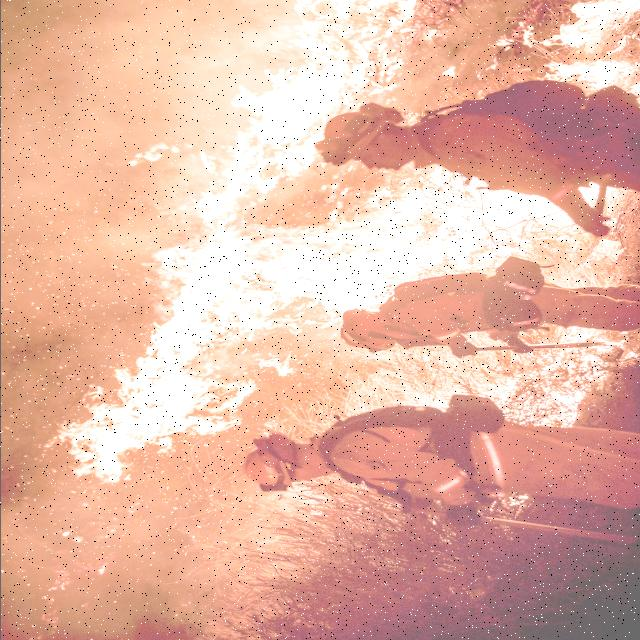api: (192, 2, 412, 214), (155, 225, 396, 345), (68, 353, 236, 481), (400, 181, 573, 271)
